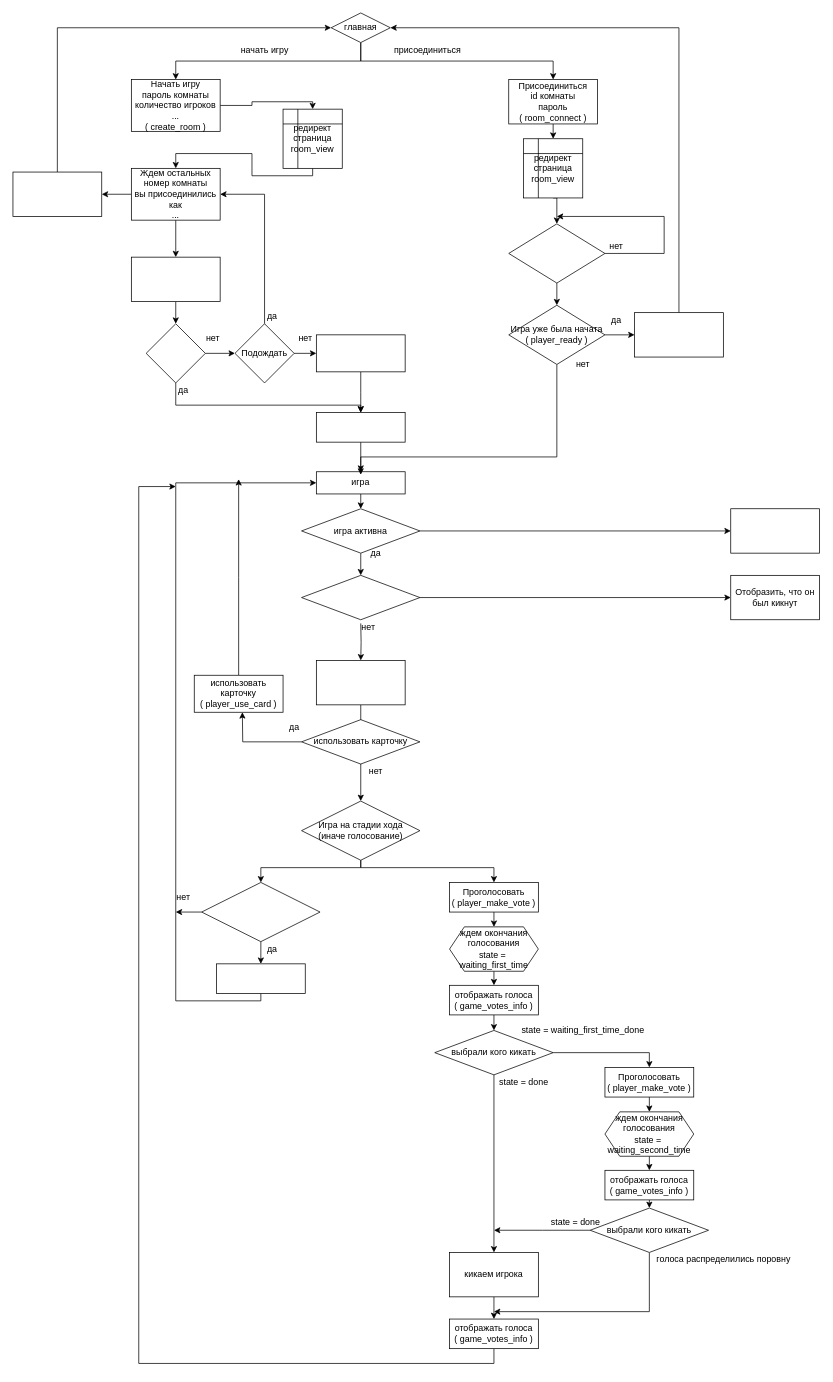
Some shapes in this 833 by 1382 pixel diagram are drawn without their labels. The shapes that lost their labels are listed below. From the top down, each one's centre as x and y in pixels, then its label:
point 57,193: закрыть комнату (удалить комнату) ( delete_room )
point 556,253: готов
point 175,279: начать игру ( room_info )
point 175,353: Все готовы
point 360,353: Выбросить всех остальных из комнаты
point 678,334: выкинуть из комнаты
point 360,427: Начать игру ( start_game )
point 775,530: Показать результаты ( game_results )
point 360,597: текущий игрок кикнут
point 360,682: ( get_current_player ) ( game_info )
point 260,912: мой ход turn == player_number
point 260,978: Вскрыть харки ( player_open_chars )
